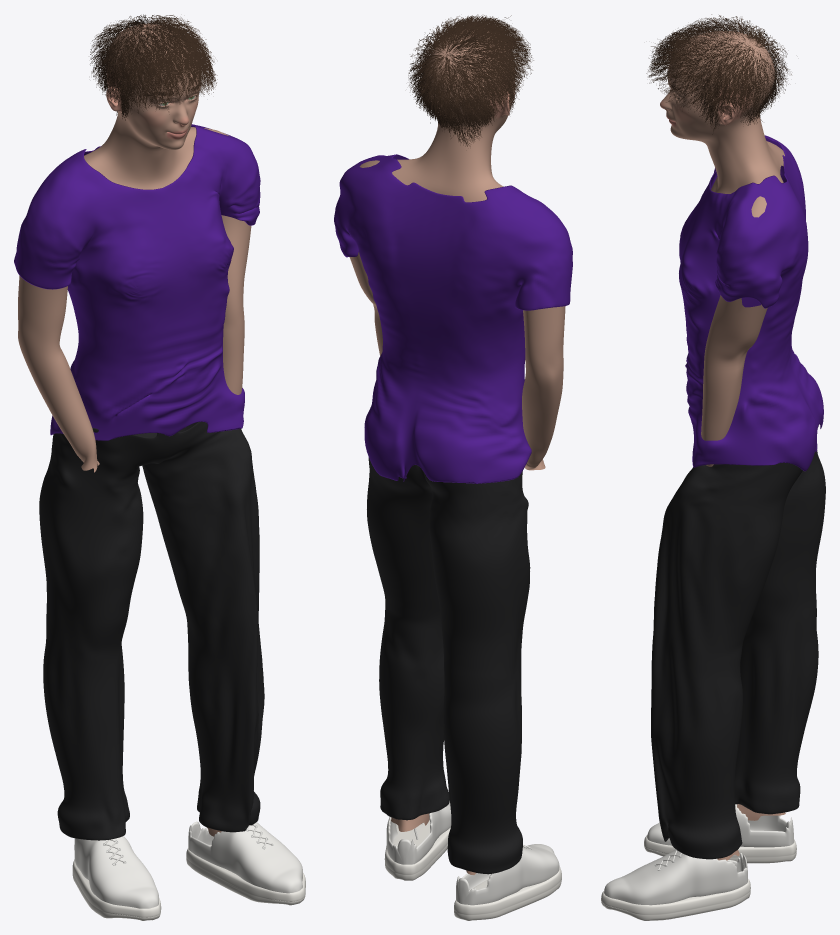
The model's file is character.glb.
3 views of the same model, side by side, from view 1: azimuth 30°, elevation 25°; view 2: azimuth 150°, elevation 25°; view 3: azimuth 270°, elevation 25° (orthographic). The views are drawn at different scales.
Parts seen in each view (by area): view 1: GEO_Trousers.001, GEO_Tshirt.001, GEO_Body.001, HAIR_Scalp_Ribbons, GEO_Sneaker_Upper_L.001, GEO_Sneaker_Upper_R.001, GEO_Sneaker_Sole_L.001, GEO_Sneaker_Sole_R.001; view 2: GEO_Trousers.001, GEO_Tshirt.001, GEO_Body.001, HAIR_Scalp_Ribbons, GEO_Sneaker_Upper_R.001, GEO_Sneaker_Sole_R.001, GEO_Sneaker_Upper_L.001, GEO_Sneaker_Sole_L.001; view 3: GEO_Trousers.001, GEO_Tshirt.001, GEO_Body.001, HAIR_Scalp_Ribbons, GEO_Sneaker_Upper_L.001, GEO_Sneaker_Sole_L.001, GEO_Sneaker_Upper_R.001, GEO_Sneaker_Sole_R.001.
Boxes of the visible parts, bbox=[...] form: GEO_Trousers.001: bbox=[39, 421, 264, 840]; GEO_Tshirt.001: bbox=[14, 124, 260, 440]; GEO_Body.001: bbox=[18, 23, 251, 836]; HAIR_Scalp_Ribbons: bbox=[90, 14, 217, 120]; GEO_Sneaker_Upper_L.001: bbox=[188, 821, 302, 893]; GEO_Sneaker_Upper_R.001: bbox=[74, 836, 158, 908]; GEO_Sneaker_Sole_L.001: bbox=[186, 845, 305, 905]; GEO_Sneaker_Sole_R.001: bbox=[72, 859, 161, 920]; GEO_Trousers.001: bbox=[367, 457, 530, 874]; GEO_Tshirt.001: bbox=[334, 154, 572, 483]; GEO_Body.001: bbox=[349, 29, 565, 874]; HAIR_Scalp_Ribbons: bbox=[408, 14, 533, 146]; GEO_Sneaker_Upper_R.001: bbox=[456, 844, 559, 905]; GEO_Sneaker_Sole_R.001: bbox=[454, 865, 561, 920]; GEO_Sneaker_Upper_L.001: bbox=[386, 801, 451, 864]; GEO_Sneaker_Sole_L.001: bbox=[384, 820, 450, 880]; GEO_Trousers.001: bbox=[651, 425, 825, 859]; GEO_Tshirt.001: bbox=[679, 135, 823, 471]; GEO_Body.001: bbox=[660, 31, 785, 860]; HAIR_Scalp_Ribbons: bbox=[646, 14, 791, 134]; GEO_Sneaker_Upper_L.001: bbox=[604, 849, 747, 905]; GEO_Sneaker_Sole_L.001: bbox=[601, 879, 750, 920]; GEO_Sneaker_Upper_R.001: bbox=[647, 804, 794, 847]; GEO_Sneaker_Sole_R.001: bbox=[644, 830, 796, 863].
Bounding box in the file's own units: 0.5043 × 1.8 × 0.4303.
